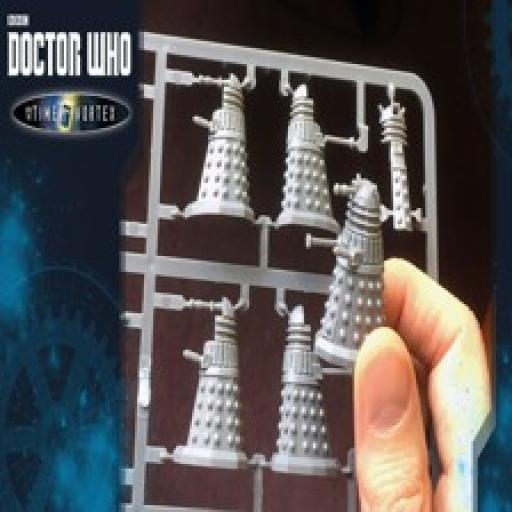dalek: (297, 172, 412, 370), (169, 299, 250, 471), (269, 302, 340, 478), (180, 74, 252, 232), (276, 84, 342, 232), (378, 102, 416, 233)
